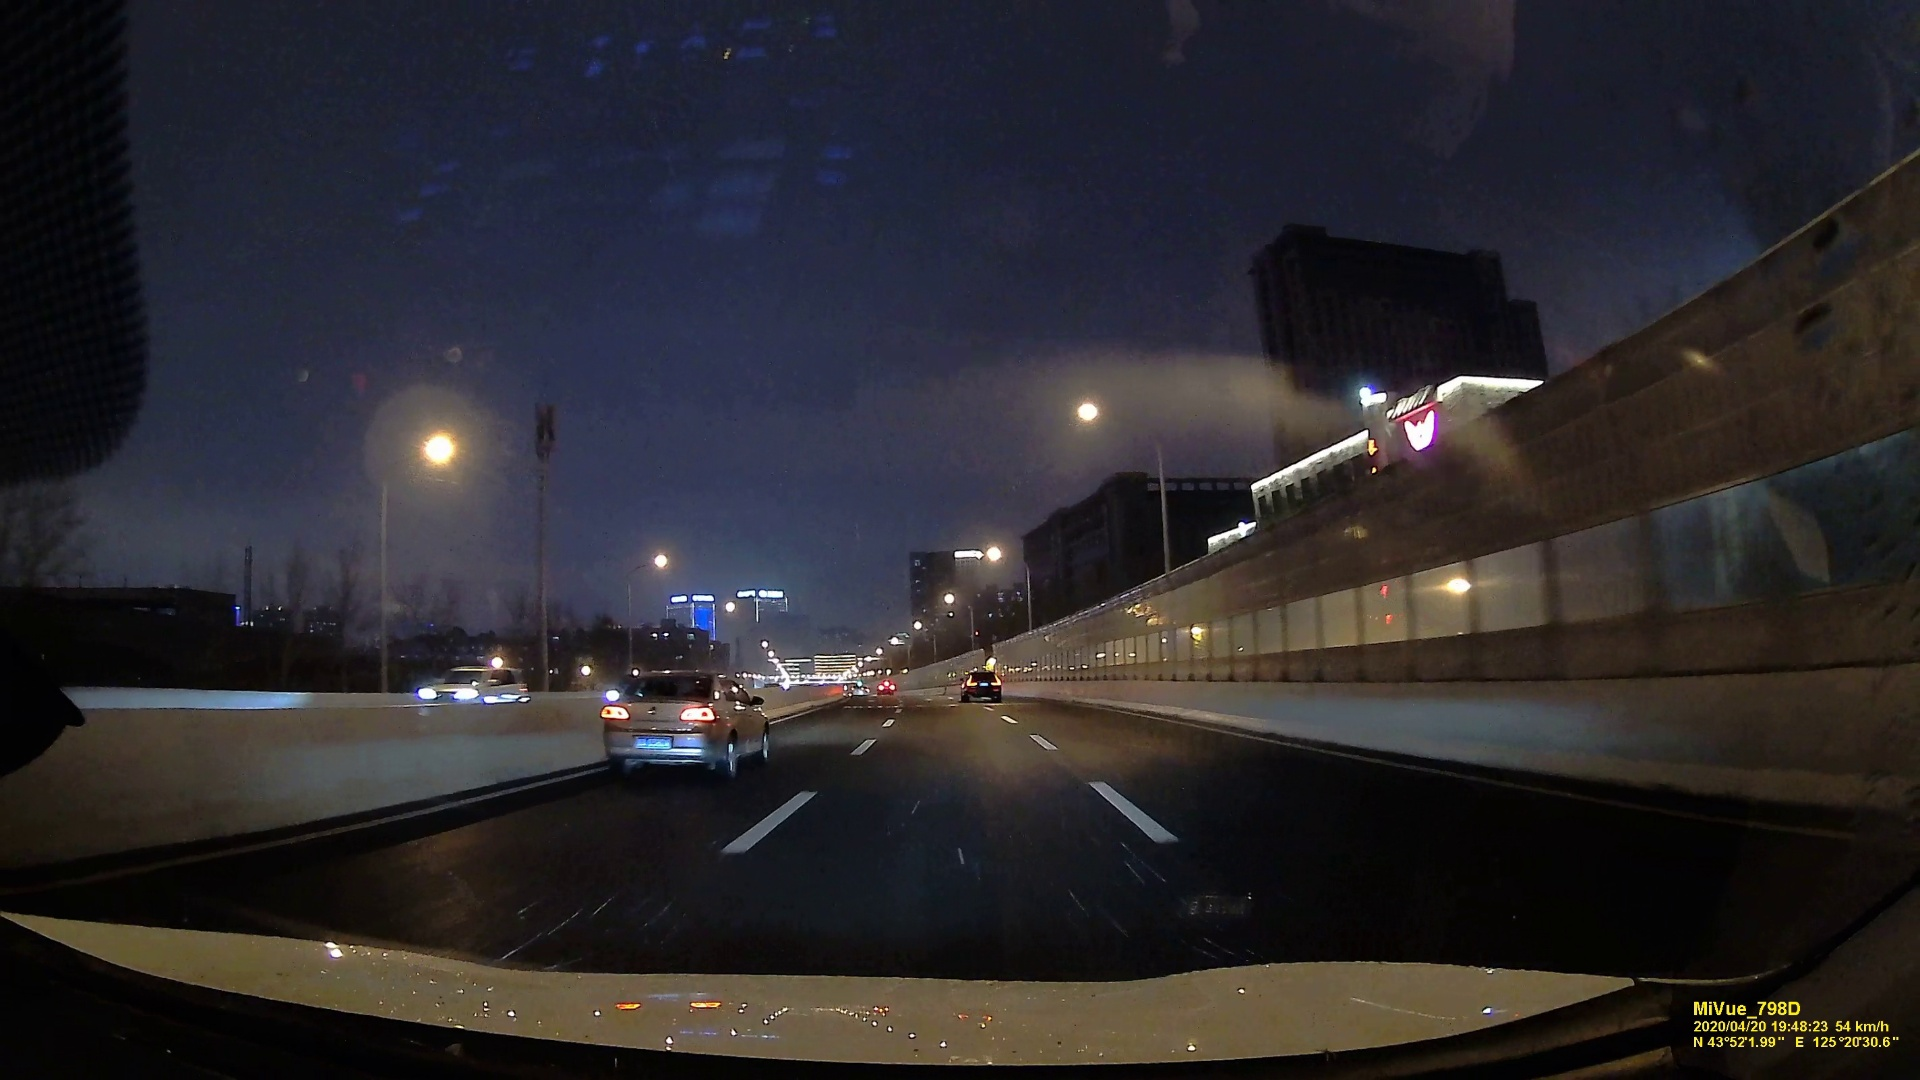vehicle: (599, 667, 775, 777), (418, 663, 534, 707), (957, 669, 1004, 702)
